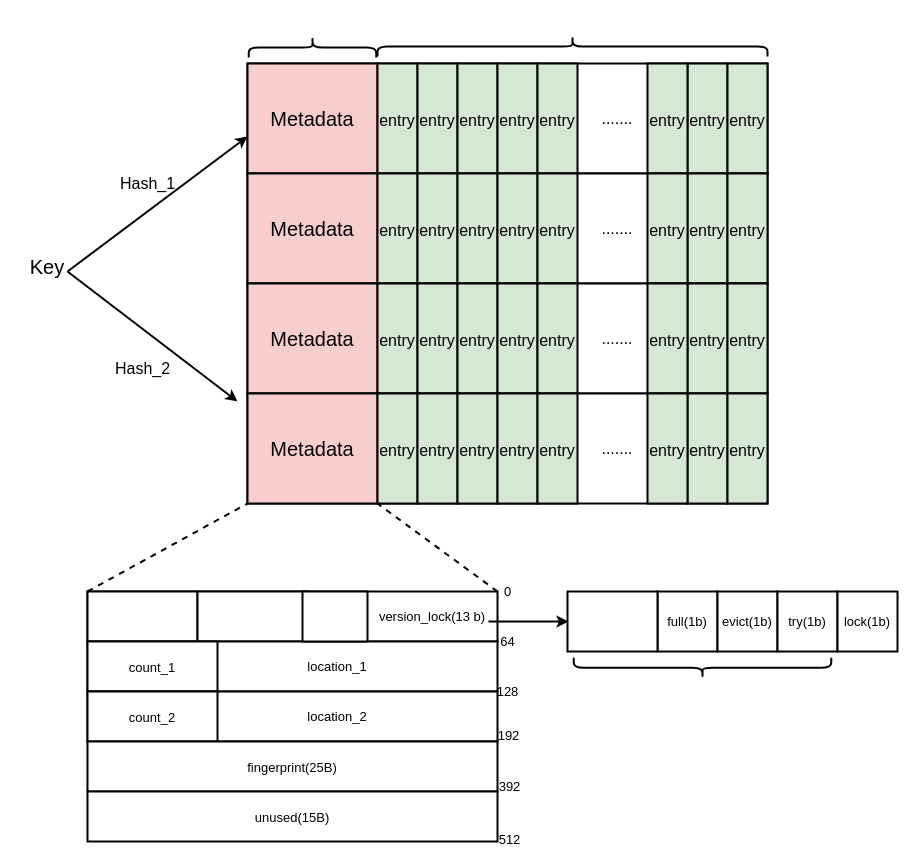
Image size: 915x866. Some labels were removed from this diagram. Each missing label, with the centre of its shape:
120B * 25: (572,46)
2B DRAM: (702,667)
64B: (312,47)
crash(1b): (334,616)
neighbor_tag(25b): (252,616)
valid_tag(25b): (142,616)
version(12b): (612,621)
